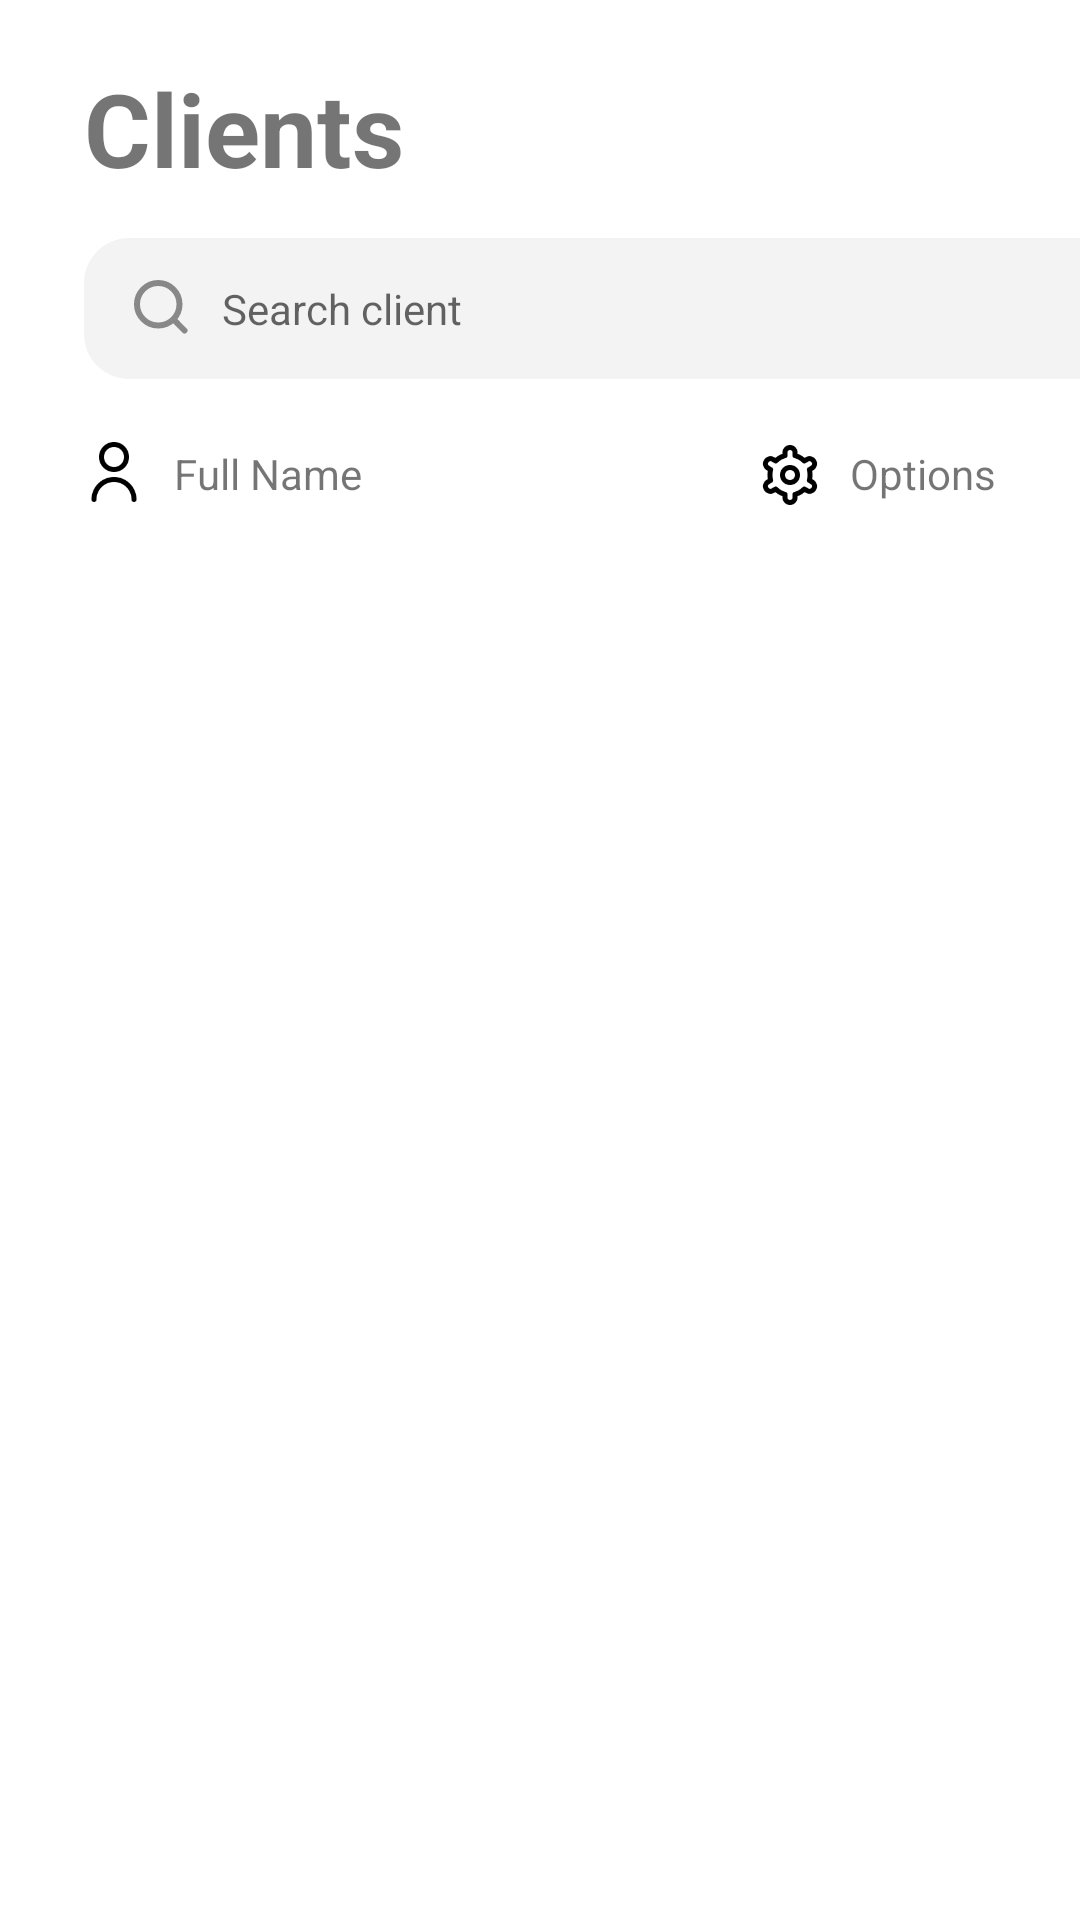

Named icons in this screenshot (1080x1920) and their bounding boxes, (x1, y1, x2, y2):
ajustes: (763, 445, 817, 505)
usuario: (91, 442, 137, 502)
